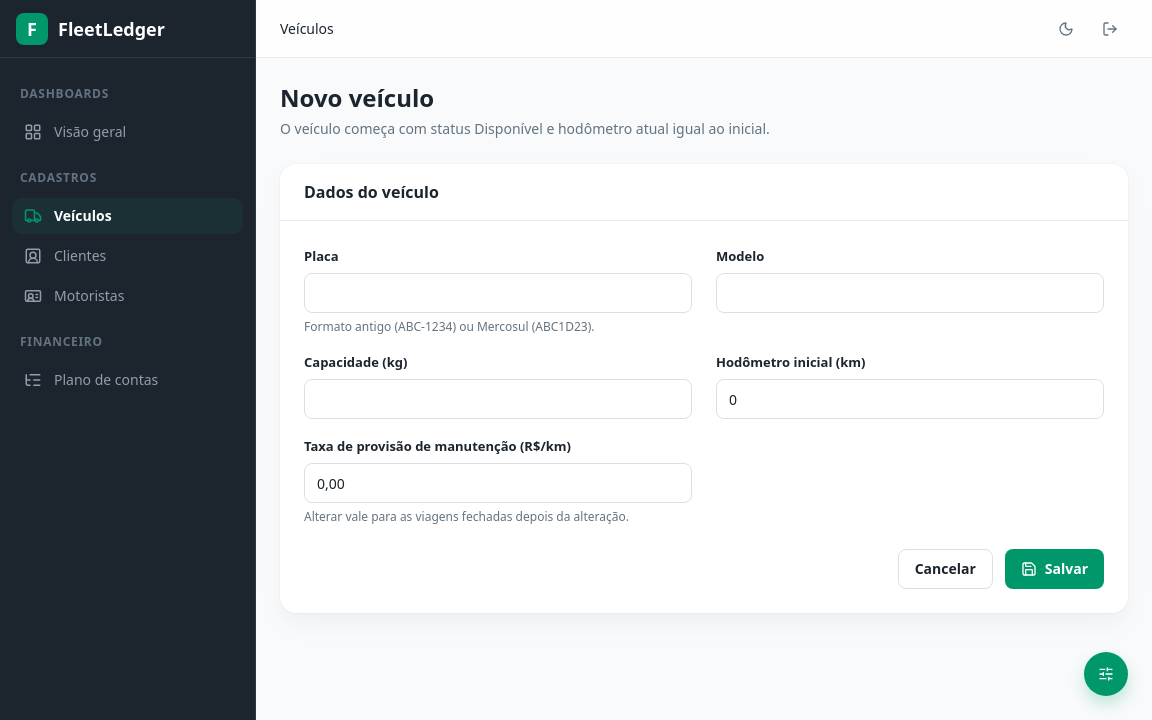
Test: NewVehiclePage › creates the vehicle and opens its detail
Type "abc-1d23" into the field labelled "Placa". click: (498, 293)
box: [304,273,692,313]
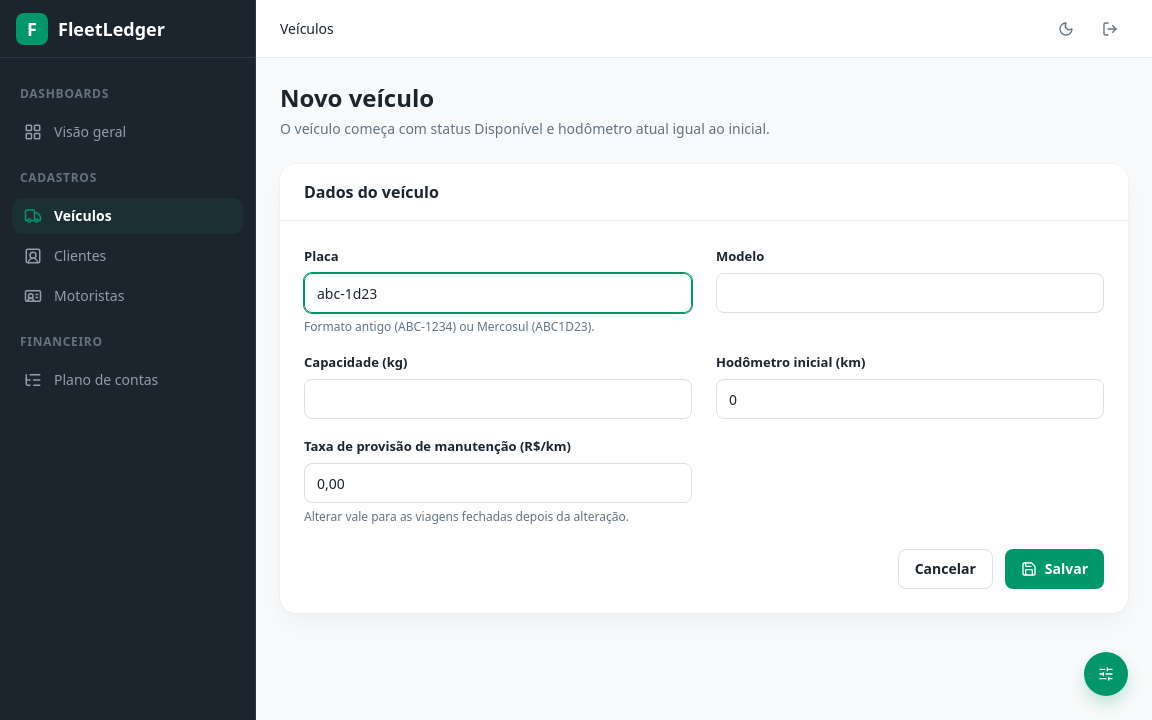
Type "Volvo FH 540" into the field labelled "Modelo". click: (910, 293)
box: [716,273,1104,313]
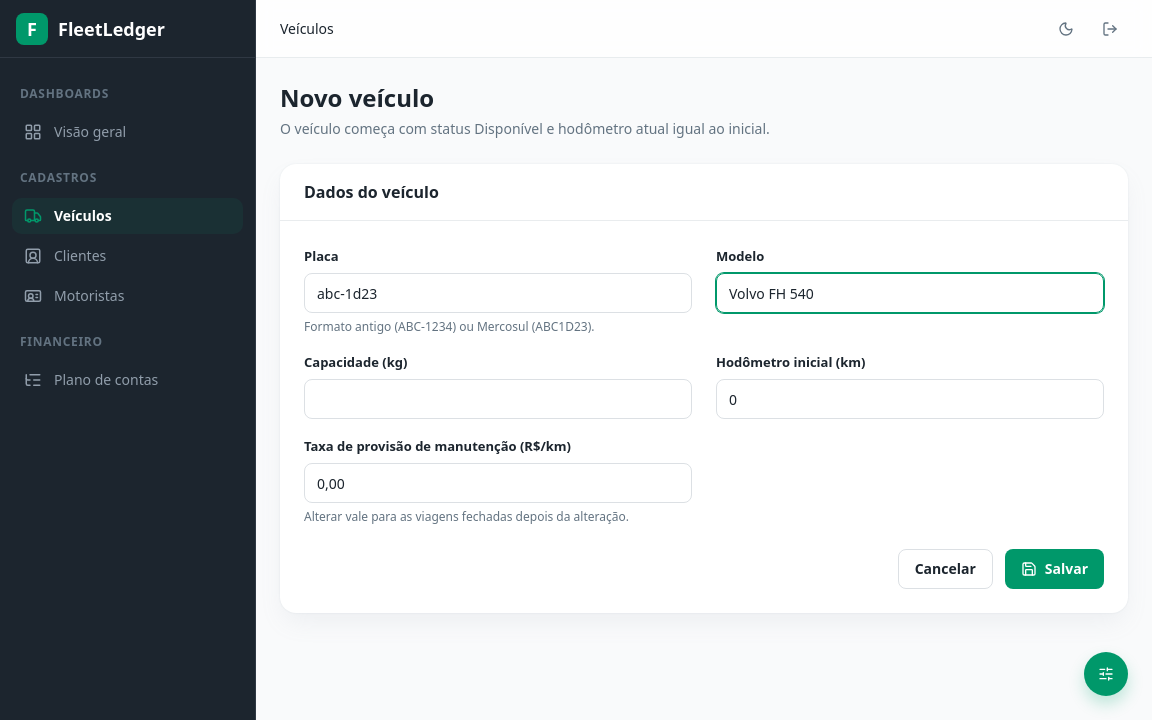
Type "27.000" into the field labelled "Capacidade (kg)". click: (498, 399)
box: [304,379,692,419]
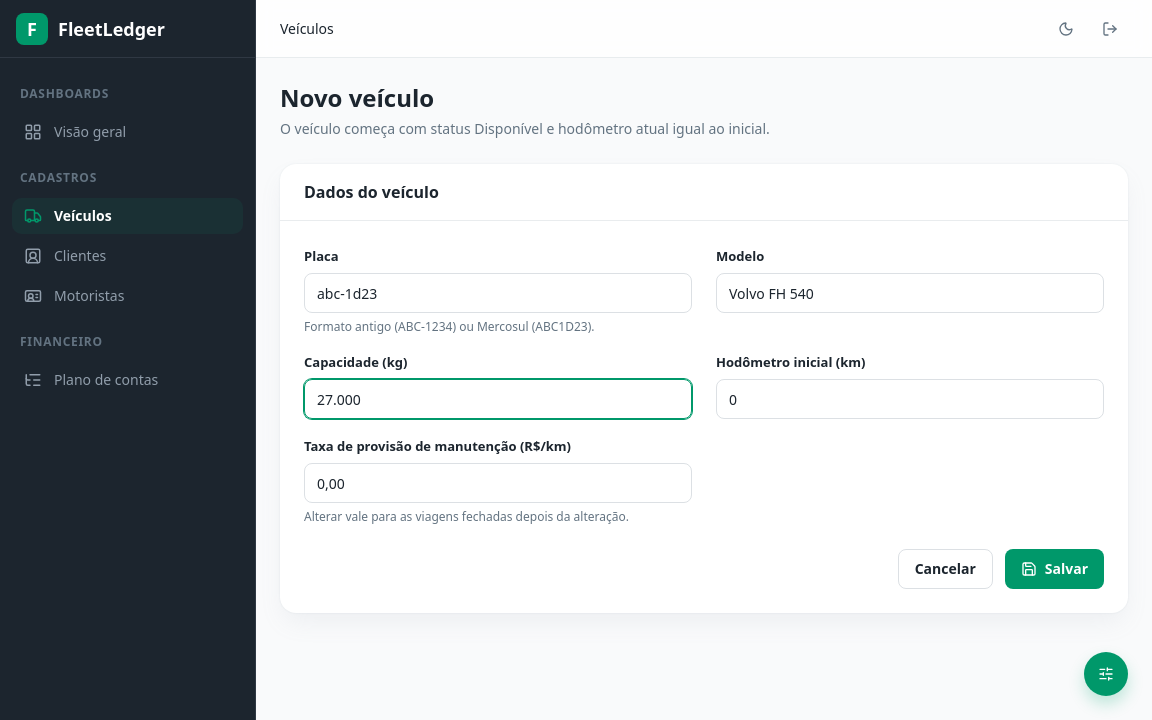
Replace the text in the field labelled "Hodômetro inicial (km)" with "100000". click: (910, 399)
box: [716,379,1104,419]
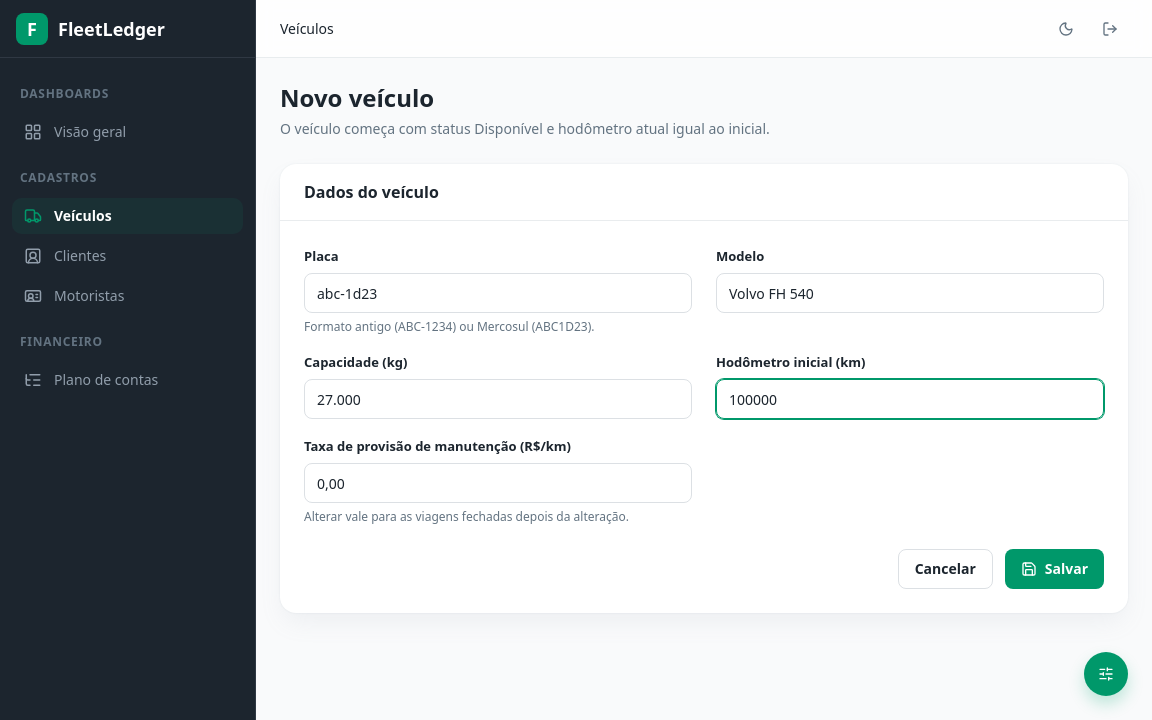
Replace the text in the field labelled "Taxa de provisão de manutenção (R$/km)" with "0,15". click: (498, 483)
box: [304,463,692,503]
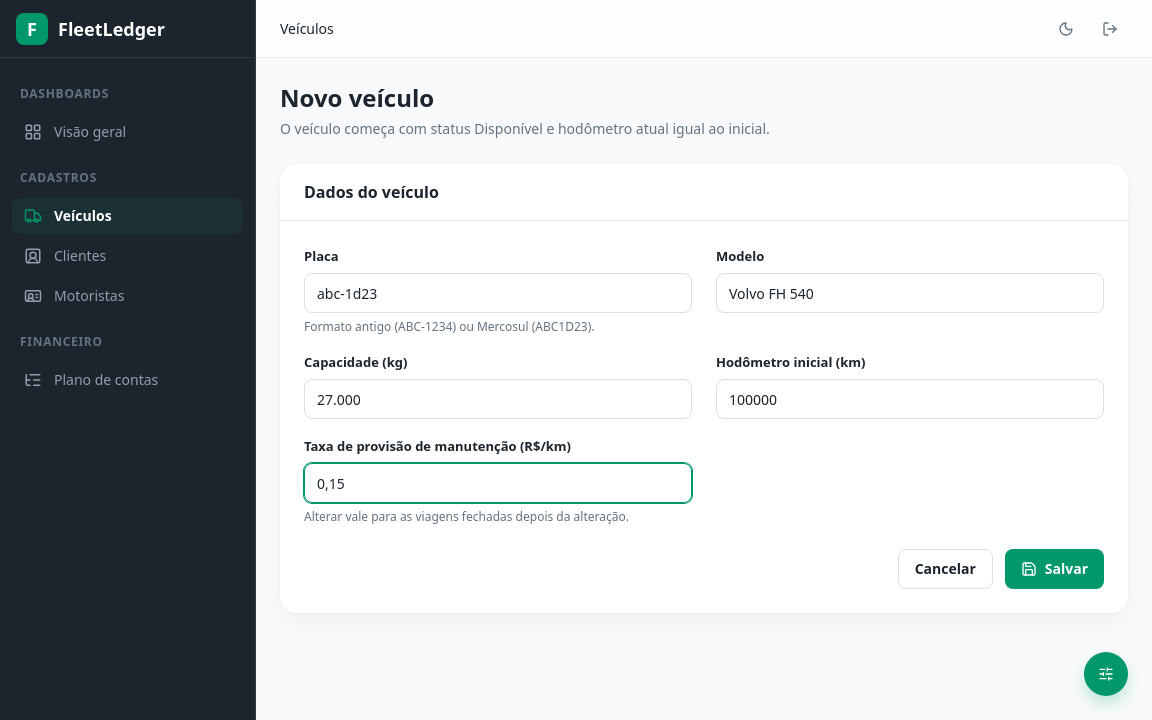
Click the button "Salvar". click: (1054, 569)
box: [1005,549,1104,589]
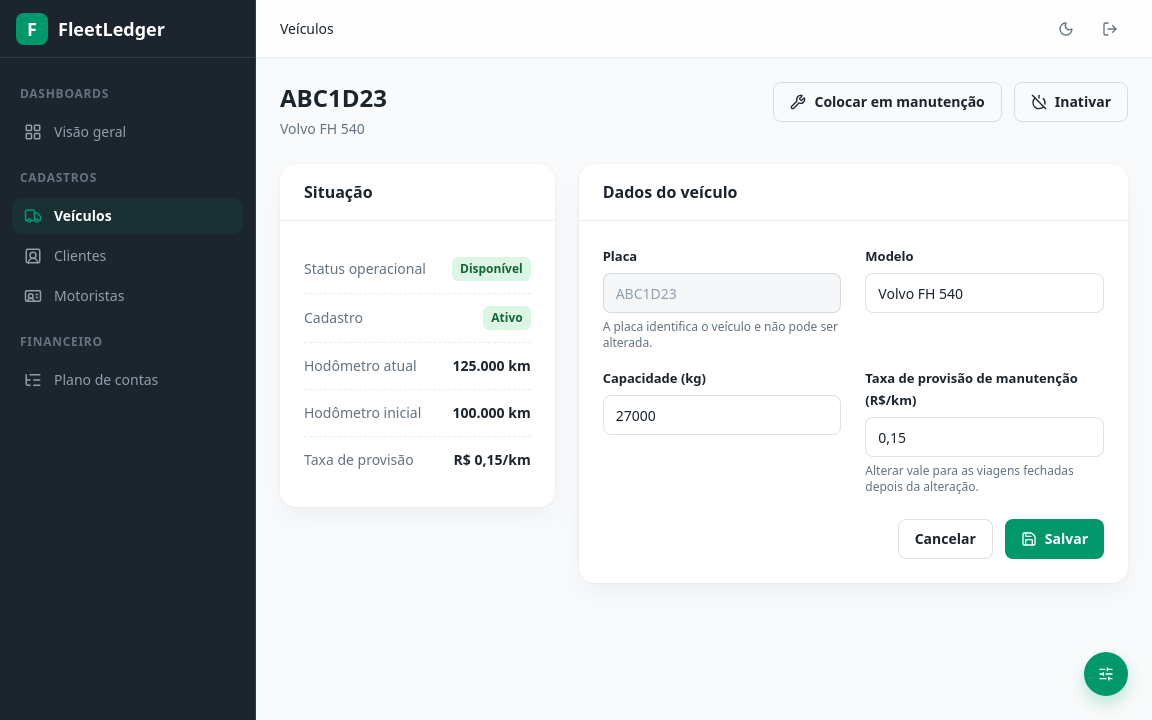
Now the heading "ABC1D23" is shown, box [280,82,387,114]
